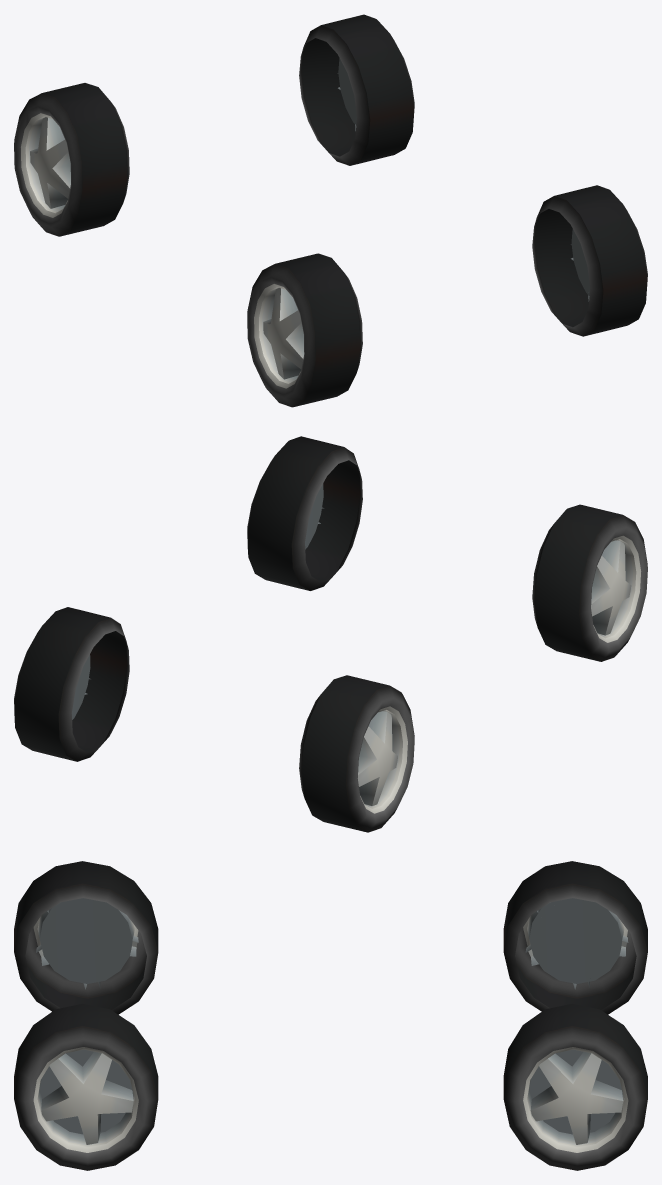
The model's file is car_wheel.fbx.
3 views of the same model, one above another, from view 1: azimuth 30°, elevation 25°; view 2: azimuth 150°, elevation 25°; view 3: azimuth 270°, elevation 25° (orthographic). The views are drawn at different scales.
Visible parts, largest first — view 1: car_wheel; view 2: car_wheel; view 3: car_wheel.
Part boxes in pixels (bbox=[...]): car_wheel: bbox=[14, 14, 647, 407]; car_wheel: bbox=[14, 436, 647, 832]; car_wheel: bbox=[14, 861, 647, 1170].
Bounding box in the file's own units: 59.67 × 22.18 × 89.9.
